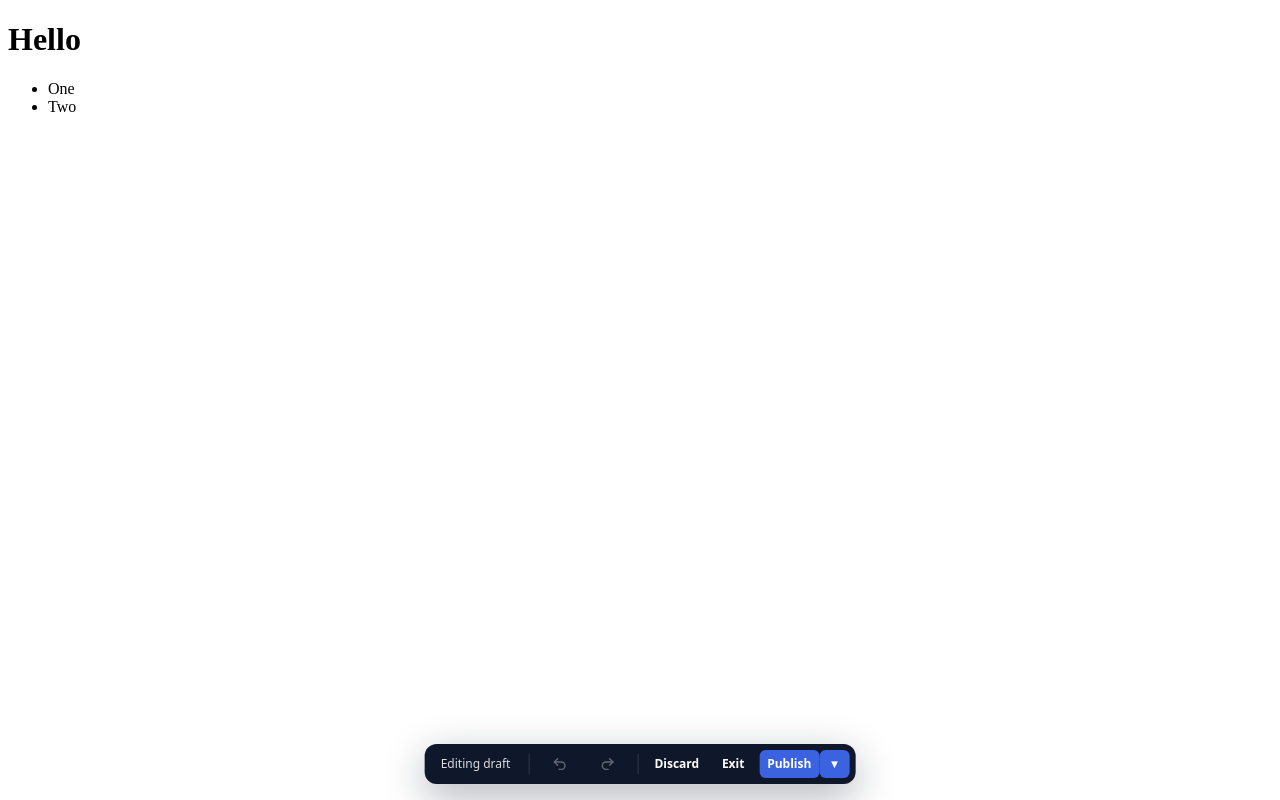
Test case: OnPageEditor › shows a publish failure instead of getting stuck
The image size is (1280, 800).
Expected: the message with test id "onpage-status" reads "Editing draft", [441,755,510,772]
Click the heading "Hello" at (44, 39), box [8,21,81,57]
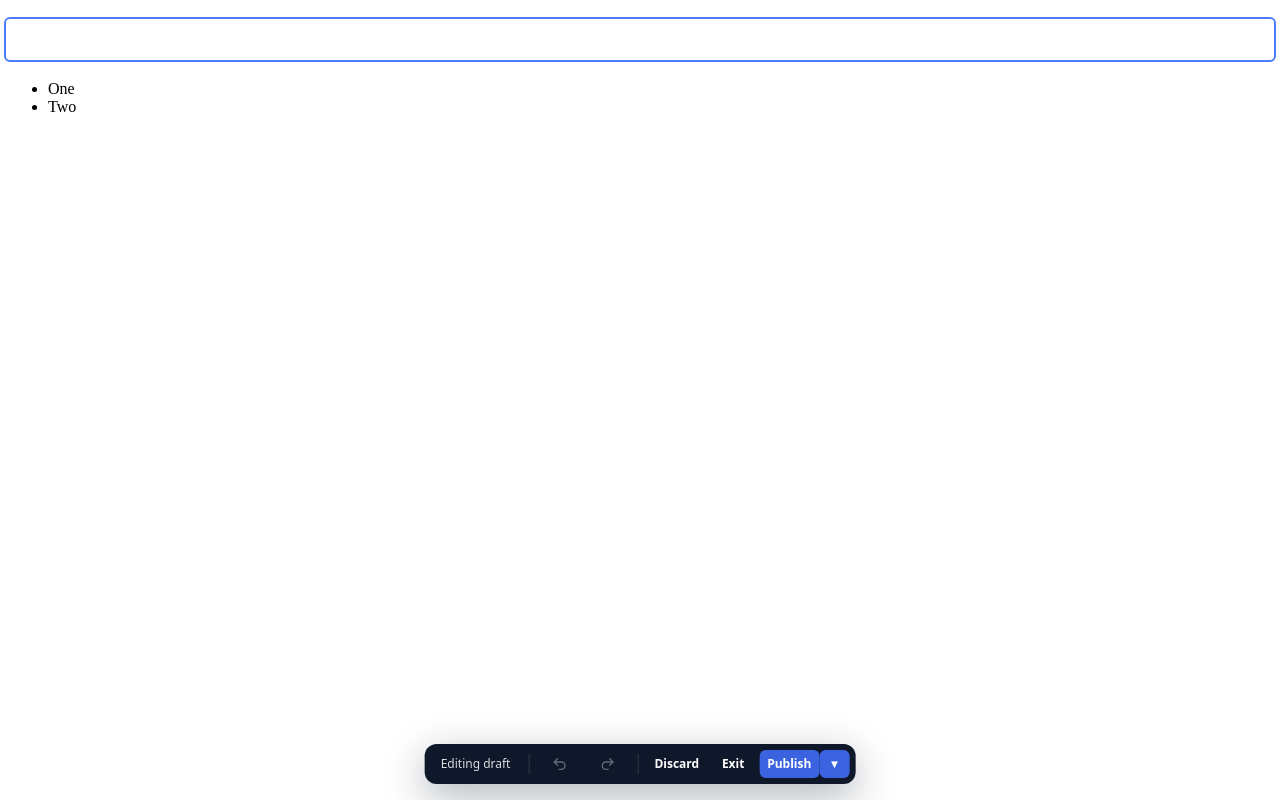
Press Enter in the field with test id "onpage-inline-text", box [8,21,1272,58]
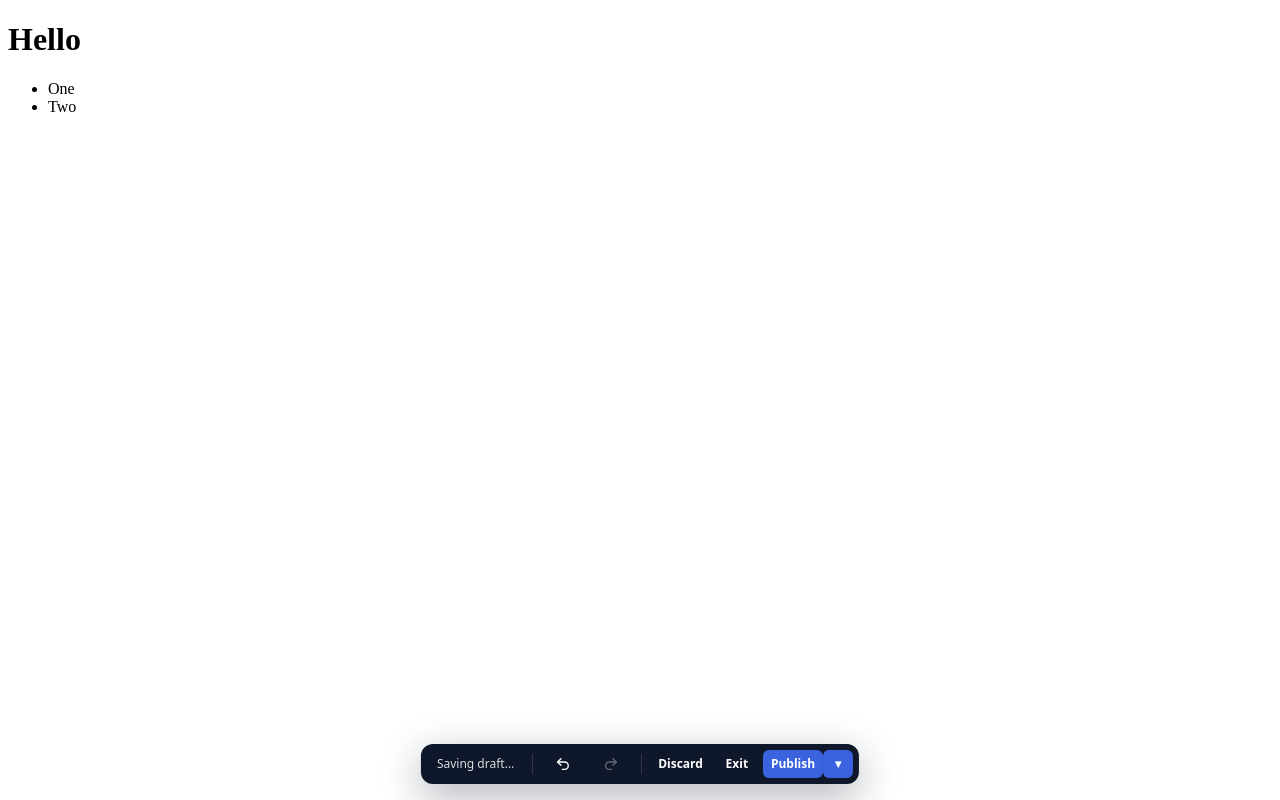
Click the button with test id "onpage-publish" at (793, 764), box [763,750,823,778]
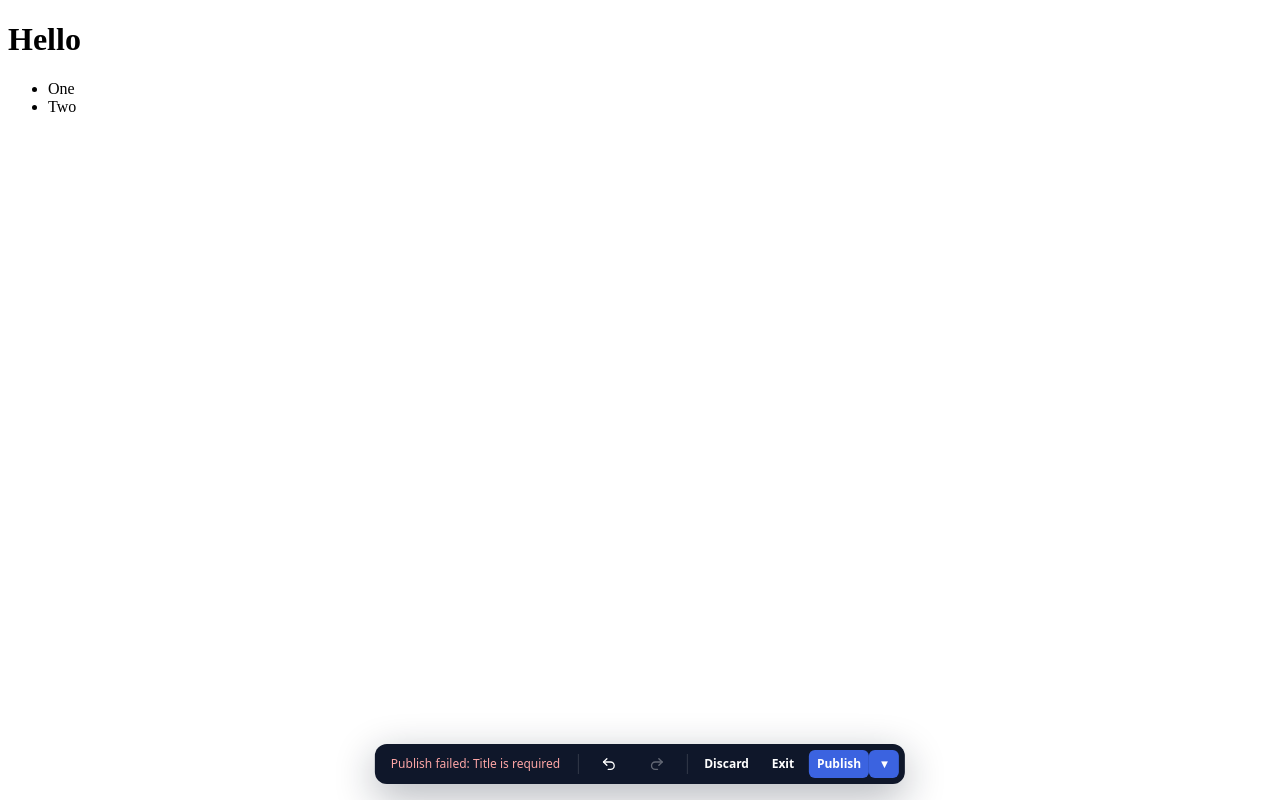
Expected: the button with test id "onpage-publish" is enabled, [809,750,869,778]
Result: the message with test id "onpage-status" shows "Title is required" at [391,755,560,772]
